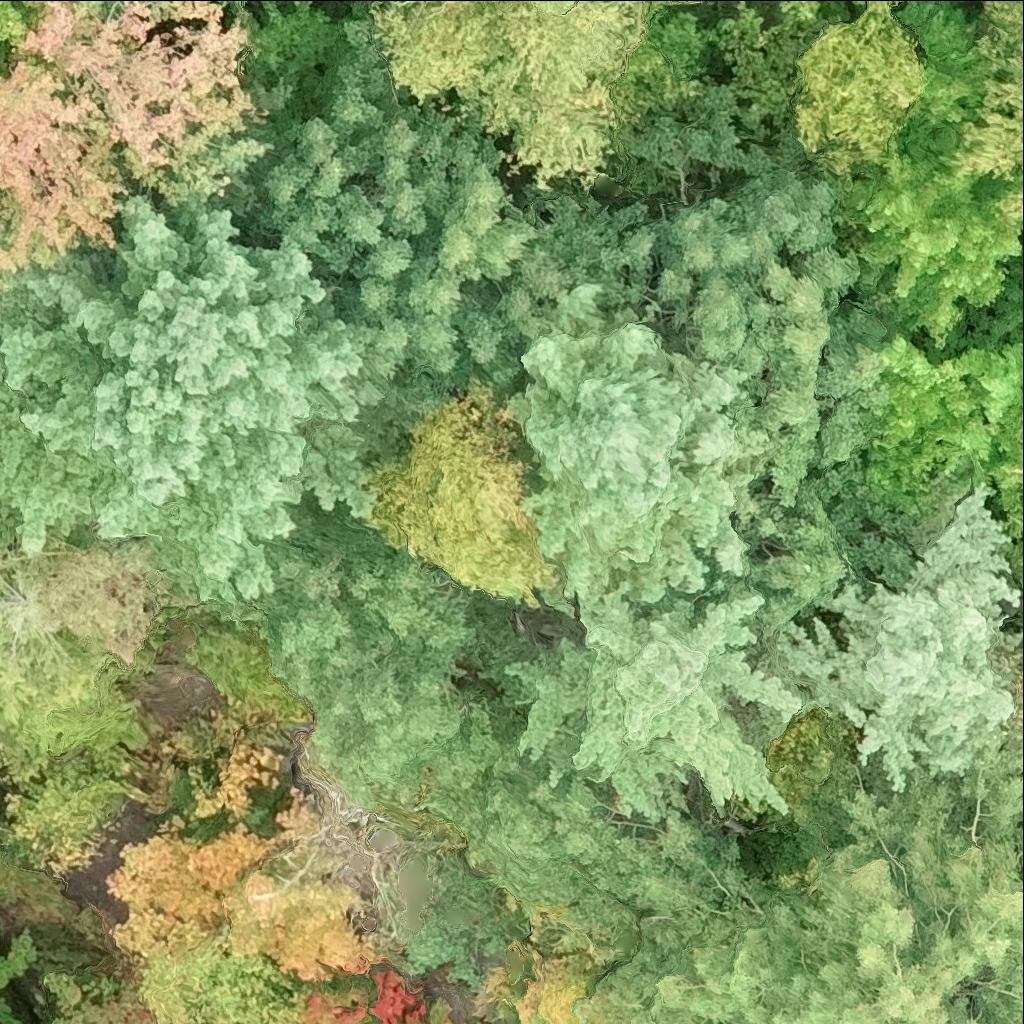crown: (0, 197, 403, 612), (272, 18, 620, 461), (579, 720, 1023, 1023), (553, 109, 889, 504), (257, 490, 540, 838), (653, 447, 952, 707), (107, 706, 384, 979), (0, 0, 268, 279), (780, 484, 1023, 791), (508, 330, 760, 608), (828, 5, 1023, 348), (512, 585, 799, 813), (457, 752, 751, 960), (371, 0, 645, 193), (362, 380, 570, 604), (0, 531, 165, 779), (851, 337, 1023, 533), (796, 0, 927, 177), (392, 838, 532, 986), (906, 232, 1023, 365), (951, 0, 1023, 182), (137, 945, 299, 1023), (289, 732, 368, 879), (282, 971, 457, 1023), (524, 957, 623, 1023), (989, 407, 1023, 596), (45, 974, 156, 1023), (0, 0, 54, 69), (1007, 678, 1023, 737), (213, 0, 253, 21), (999, 185, 1023, 214), (782, 0, 819, 17), (893, 0, 921, 18), (534, 0, 582, 10), (0, 279, 2, 309), (854, 0, 866, 5)
